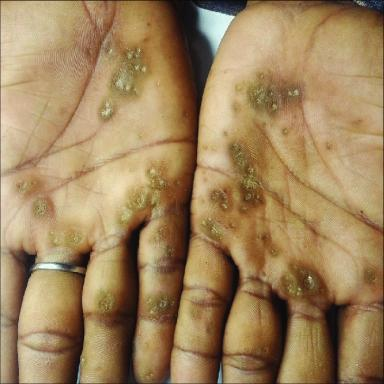Porokeratosis: (227, 122, 268, 216), (119, 163, 180, 224), (236, 68, 300, 115), (111, 44, 148, 96), (282, 263, 324, 297), (150, 222, 177, 256), (145, 293, 175, 316), (14, 177, 41, 197), (200, 217, 223, 240), (97, 289, 115, 313), (32, 197, 51, 219), (100, 30, 116, 56), (261, 234, 278, 256), (211, 190, 228, 209), (100, 99, 115, 120), (66, 228, 83, 246), (365, 269, 378, 291), (49, 230, 63, 246), (81, 42, 97, 55), (234, 103, 240, 110), (326, 142, 331, 150), (283, 128, 288, 134)
